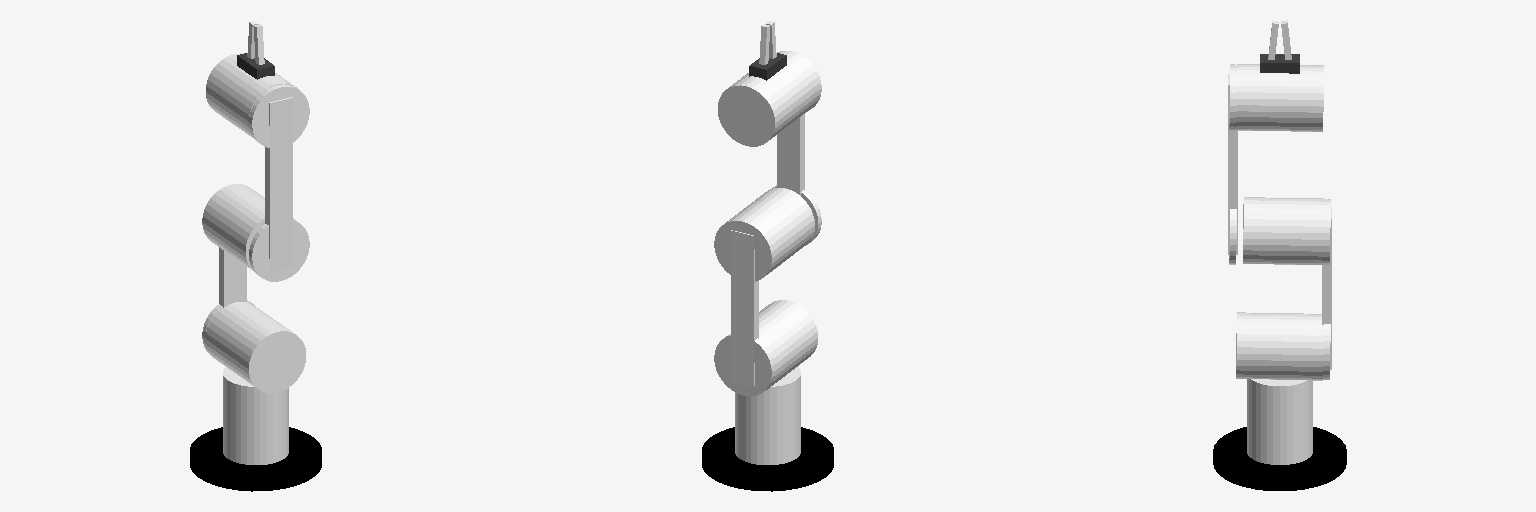
The robot description file, URDF, robot "CPRMover4":
<?xml version="1.0"?>
<robot name="CPRMover4">
  
  <link name="base_link">
    <visual>
      <geometry>
        <cylinder length="0.02" radius="0.1"/>
      </geometry>
	<origin rpy="0 0 0" xyz="0 0 0.01"/>
      <material name="black">
        <color rgba="0 0 0 0.9"/>
      </material>
    </visual>
  </link>
  <link name="A1fixed">
    <visual>
      <geometry>
        <cylinder length="0.13" radius="0.05"/>
      </geometry>
	<origin rpy="0 0 0" xyz="0 0 0.065"/>
      <material name="white">
        <color rgba="1 1 1 0.9"/>
      </material>
    </visual>
  </link>
 <joint name="basetoA1fixed" type="fixed">
    <parent link="base_link"/>
    <child link="A1fixed"/>
    <origin xyz="0 0 .02"/>
  </joint>


 <link name="Body1">
    <visual>
      <geometry>
	<cylinder length="0.13" radius="0.05"/>
      </geometry>
      <origin rpy="1.552 0 0" xyz="0 0 0"/>
      <material name="white">
        <color rgba="1 1 1 0.9"/>
      </material>
    </visual>
  </link>

<link name="Body2">
    <visual>
      <geometry>
	<cylinder length="0.01" radius="0.05"/>
      </geometry>
      <origin rpy="1.552 0 0" xyz="0 0.07 0"/>
      <material name="white">
        <color rgba="1 1 1 0.9"/>
      </material>
    </visual>
  </link>
<link name="UpperArm">
    <visual>
      <geometry>
	<box size="0.04 0.015 .25"/>
      </geometry>
      <origin rpy="0 0 0" xyz="0.0 0.07 0.095"/>
      <material name="white">
        <color rgba="1 1 1 0.9"/>
      </material>
    </visual>
  </link>
<link name="Body2Oben">
    <visual>
      <geometry>
	<cylinder length="0.13" radius="0.05"/>
      </geometry>
      <origin rpy="1.552 0 0" xyz="0 0.01 0.19"/>
      <material name="white">
        <color rgba="1 1 1 0.9"/>
      </material>
    </visual>
  </link>

  <joint name="A2basetoA2fixed" type="fixed">
    <parent link="Body2"/>
    <child link="UpperArm"/>
    <origin xyz="0 0 0"/>
  </joint>
  <joint name="A2ArmtoA2Oben" type="fixed">
    <parent link="Body2"/>
    <child link="Body2Oben"/>
    <origin xyz="0 0 0"/>
  </joint>




<link name="Body3">
    <visual>
      <geometry>
	<cylinder length="0.01" radius="0.05"/>
      </geometry>
      <origin rpy="1.552 0 0" xyz="0 -0.07 0"/>
      <material name="white">
        <color rgba="1 1 1 0.9"/>
      </material>
    </visual>
  </link>

<link name="LowerArm">
    <visual>
      <geometry>
	<box size="0.04 0.015 .28"/>
      </geometry>
      <origin rpy="0 0 0" xyz="0.0 -0.07 0.11"/>
      <material name="white">
        <color rgba="1 1 1 0.9"/>
      </material>
    </visual>
  </link>
<link name="Body3Oben">
    <visual>
      <geometry>
	<cylinder length="0.01" radius="0.05"/>
      </geometry>
      <origin rpy="1.552 0 0" xyz="0 -0.07 0.22"/>
      <material name="white">
        <color rgba="1 1 1 0.9"/>
      </material>
    </visual>
  </link>
  <joint name="A3basetoA3fixed" type="fixed">
    <parent link="Body3"/>
    <child link="LowerArm"/>
    <origin xyz="0 0 0"/>
  </joint>
<joint name="A3basetoA3oben" type="fixed">
    <parent link="Body3"/>
    <child link="Body3Oben"/>
    <origin xyz="0 0 0"/>
  </joint>

 

 
<link name="Body4">
    <visual>
      <geometry>
	<cylinder length="0.13" radius="0.05"/>
      </geometry>
      <origin rpy="1.552 0 0" xyz="0 0 0"/>
      <material name="white">
        <color rgba="1 1 1 0.9"/>
      </material>
    </visual>
  </link>
<link name="GripperBody">
    <visual>
      <geometry>
	<box size="0.03 0.06 .03"/>
      </geometry>
      <origin rpy="0 0 0" xyz="0.0 0.0 0.0"/>
      <material name="gray">
        <color rgba="0.3 0.3 0.3 0.9"/>
      </material>
    </visual>
  </link>
<link name="GripperFinger1">
    <visual>
      <geometry>
	<box size="0.01 0.01 .07"/>
      </geometry>
      <origin rpy="0.1 0 0" xyz="0.0 0.00 0.04"/>
      <material name="gray">
        <color rgba="1 1 1 0.9"/>
      </material>
    </visual>
  </link>
<link name="GripperFinger2">
    <visual>
      <geometry>
	<box size="0.01 0.01 .07"/>
      </geometry>
      <origin rpy="-0.1 0 0" xyz="0.00 0.00 0.04"/>
      <material name="gray">
        <color rgba="1 1 1 0.9"/>
      </material>
    </visual>
  </link>
<joint name="Gripper1" type="fixed">
    <parent link="Body4"/>
    <child link="GripperBody"/>
    <origin xyz="0 0 .05"/>
  </joint>
<joint name="Gripper2" type="fixed">
    <parent link="GripperBody"/>
    <child link="GripperFinger1"/>
    <origin xyz="0 0.01 0"/>
  </joint>
<joint name="Gripper3" type="fixed">
    <parent link="GripperBody"/>
    <child link="GripperFinger2"/>
    <origin xyz="0 -0.01 0"/>
  </joint>



<joint name="Joint0" type="continuous">
    <axis xyz="0 0 1"/>
    <parent link="base_link"/>
    <child link="Body1"/>
    <origin rpy="0 0 0" xyz="0 0 0.1925"/>
    <limit effort="100" velocity="100"/>
    <joint_properties damping="0.0" friction="0.0"/>
  </joint>
<joint name="Joint1" type="continuous">
    <axis xyz="0 1 0"/>
    <parent link="Body1"/>
    <child link="Body2"/>
    <origin rpy="0 0 0" xyz="0 0 0"/>
    <limit effort="100" velocity="100"/>
    <joint_properties damping="0.0" friction="0.0"/>
  </joint>

<joint name="Joint2" type="continuous">
    <axis xyz="0 1 0"/>
    <parent link="Body2"/>
    <child link="Body3"/>
    <origin rpy="0 0 0" xyz="0 0 0.19"/>
    <limit effort="100" velocity="100"/>
    <joint_properties damping="0.0" friction="0.0"/>
  </joint>
 <joint name="Joint3" type="continuous">
    <axis xyz="0 1 0"/>
    <parent link="Body3"/>
    <child link="Body4"/>
    <origin rpy="0 0 0" xyz="0 0 0.22"/>
    <limit effort="100" velocity="100"/>
    <joint_properties damping="0.0" friction="0.0"/>
  </joint>

 
  

  

</robot>

--- Render facts (derived) ---
Views: 3 orthographic renders of the robot side by side, from view 1: azimuth 30°, elevation 25°; view 2: azimuth 150°, elevation 25°; view 3: azimuth 270°, elevation 25°.
Robot: CPRMover4 — 13 links, 12 joints (4 continuous, 8 fixed); root link base_link; default pose: every joint at zero.
Links seen in each view (by area): view 1: Body1, A1fixed, base_link, LowerArm, Body2Oben, Body4, Body3Oben, Body3, UpperArm, GripperBody; view 2: Body4, Body2Oben, A1fixed, base_link, UpperArm, Body1, LowerArm, Body2, GripperBody; view 3: Body2Oben, Body1, Body4, A1fixed, base_link, LowerArm, UpperArm, GripperBody.
Boxes of the visible links, <box> form: Body1: <box>206,302,305,392</box>; A1fixed: <box>223,367,288,464</box>; base_link: <box>190,427,321,491</box>; LowerArm: <box>265,97,292,271</box>; Body2Oben: <box>202,184,294,269</box>; Body4: <box>206,53,298,137</box>; Body3Oben: <box>249,84,309,147</box>; Body3: <box>249,219,309,281</box>; UpperArm: <box>219,247,246,307</box>; GripperBody: <box>237,53,274,79</box>; Body4: <box>718,52,817,146</box>; Body2Oben: <box>714,188,814,281</box>; A1fixed: <box>735,367,800,464</box>; base_link: <box>702,427,833,491</box>; UpperArm: <box>731,230,758,386</box>; Body1: <box>759,300,817,392</box>; LowerArm: <box>777,114,804,195</box>; Body2: <box>714,334,774,395</box>; GripperBody: <box>749,53,786,80</box>; Body2Oben: <box>1243,197,1330,264</box>; Body1: <box>1236,312,1323,380</box>; Body4: <box>1236,64,1323,131</box>; A1fixed: <box>1247,379,1312,464</box>; base_link: <box>1213,427,1346,490</box>; LowerArm: <box>1228,74,1237,254</box>; UpperArm: <box>1322,207,1331,369</box>; GripperBody: <box>1260,54,1299,73</box>.
Size in the robot's own frame: 0.2 by 0.2 by 0.7278 metres.
Geometry: primitives only (box / cylinder / sphere), no mesh files.